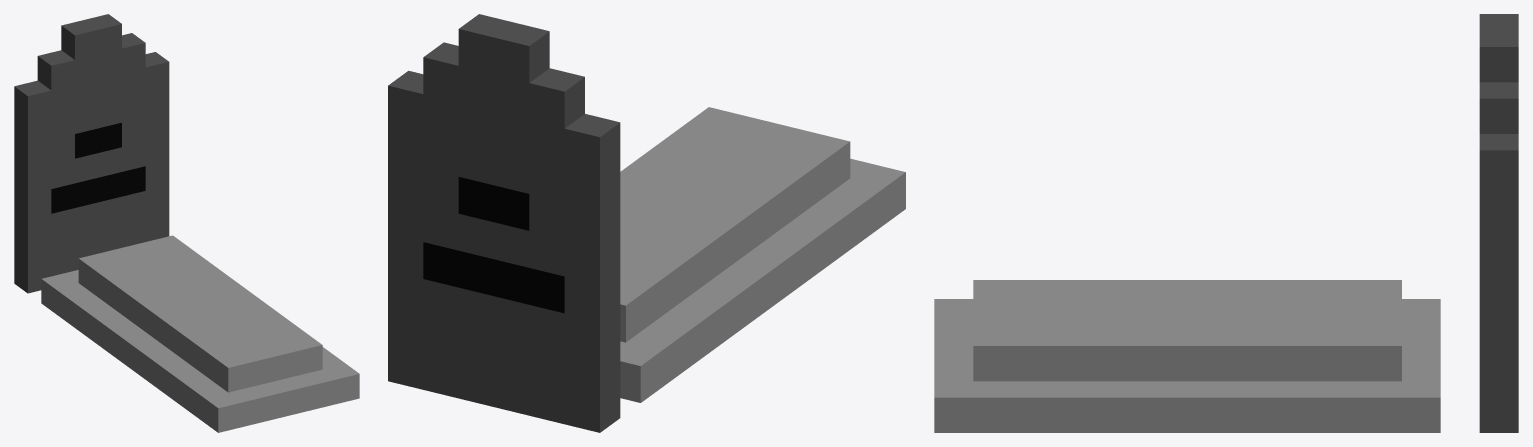
Rendered from grave.obj.
The picture shows the model from 3 angles, left to right: view 1: azimuth 30°, elevation 25°; view 2: azimuth 150°, elevation 25°; view 3: azimuth 270°, elevation 25°; orthographic projection. The views are drawn at different scales.
Size of the model in its own units: 0.6 by 1 by 1.5.
1 material, 1 textured.
